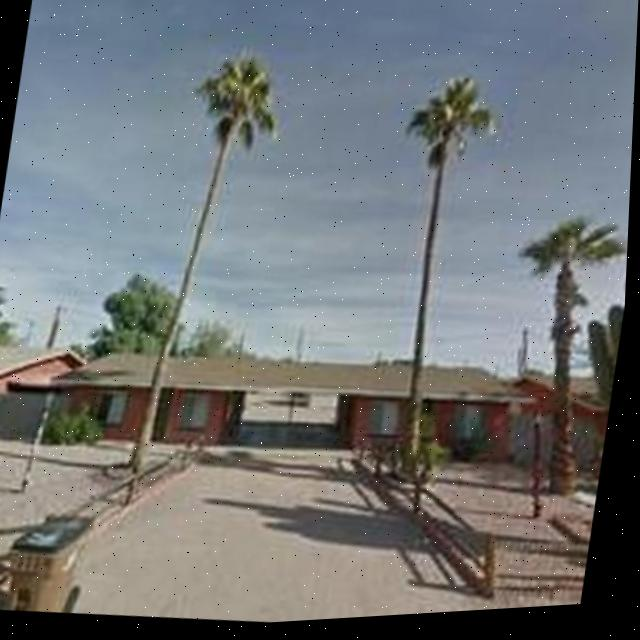building: (41, 317, 540, 490)
